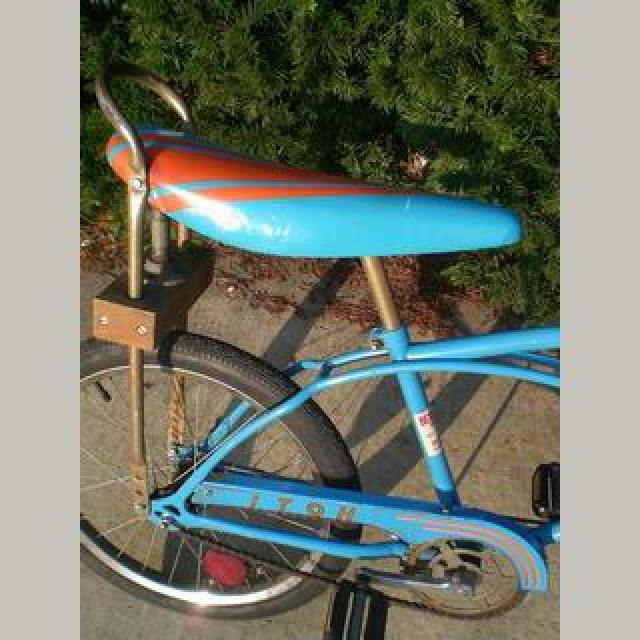Person: (82, 68, 560, 636)
